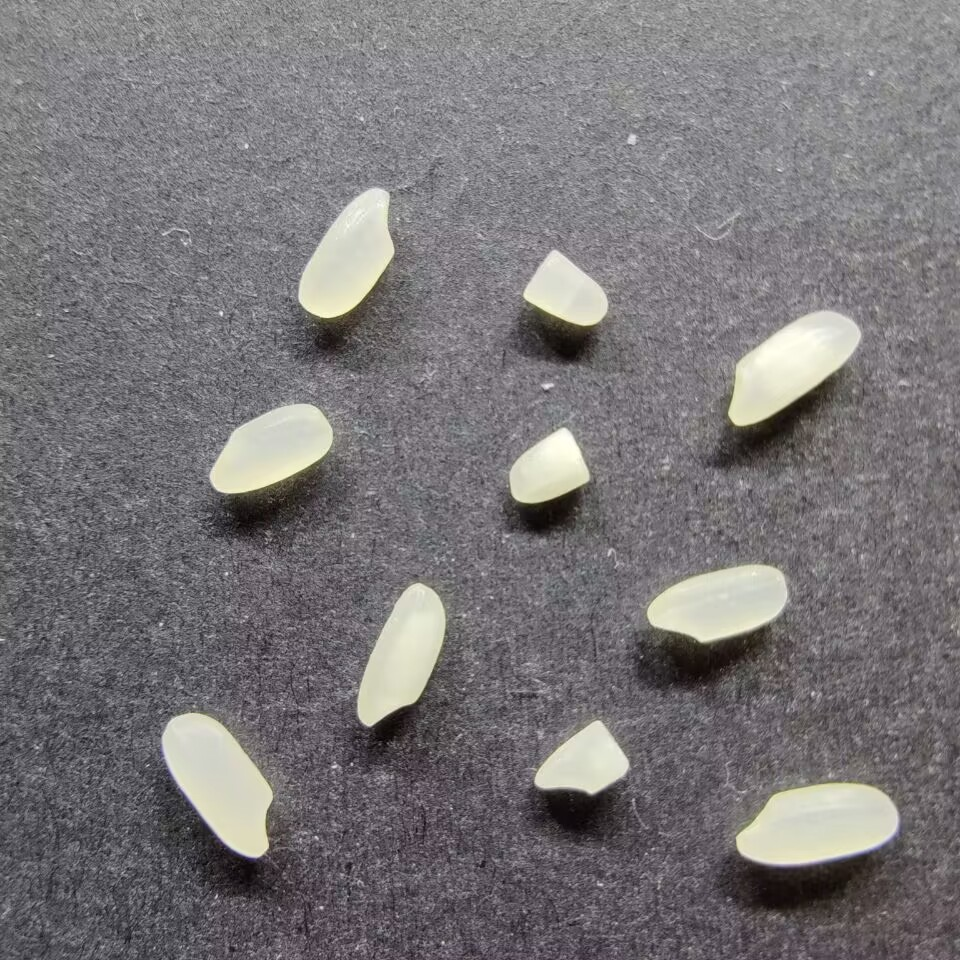broken: (531, 718, 632, 796), (519, 249, 610, 327), (506, 425, 594, 504)
rice: (160, 709, 275, 860), (727, 310, 861, 428), (734, 782, 900, 867), (354, 582, 447, 730), (296, 185, 396, 320), (205, 402, 335, 494), (645, 563, 789, 644)
